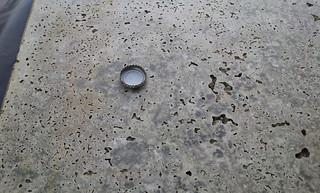Spalling: (1, 1, 320, 193)
